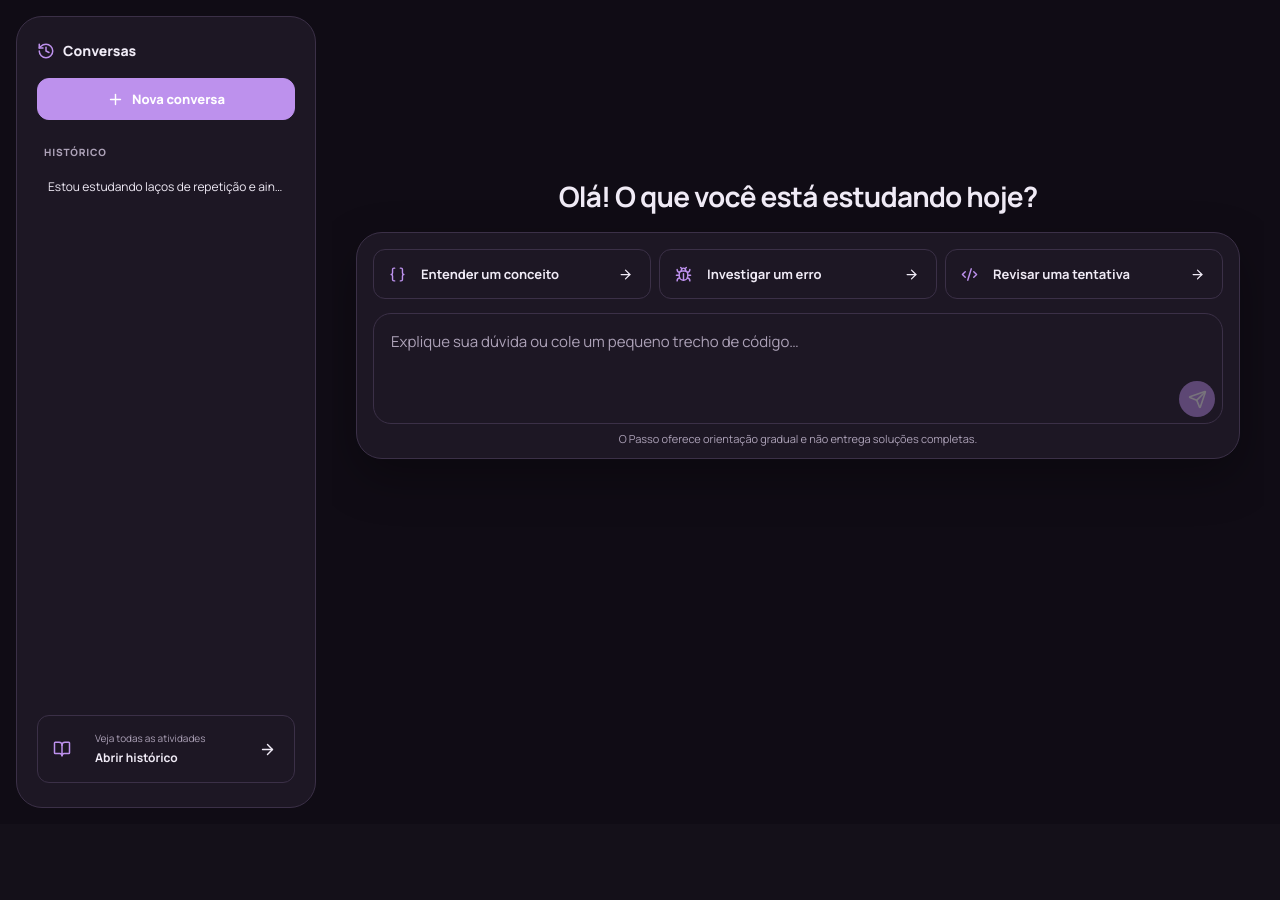
Scenario: ChatPage progressive layout › reopens an earlier conversation from the history
The image size is (1280, 900).
Click the button "Entender um conceito" at [512, 274], box [373,249,651,299]
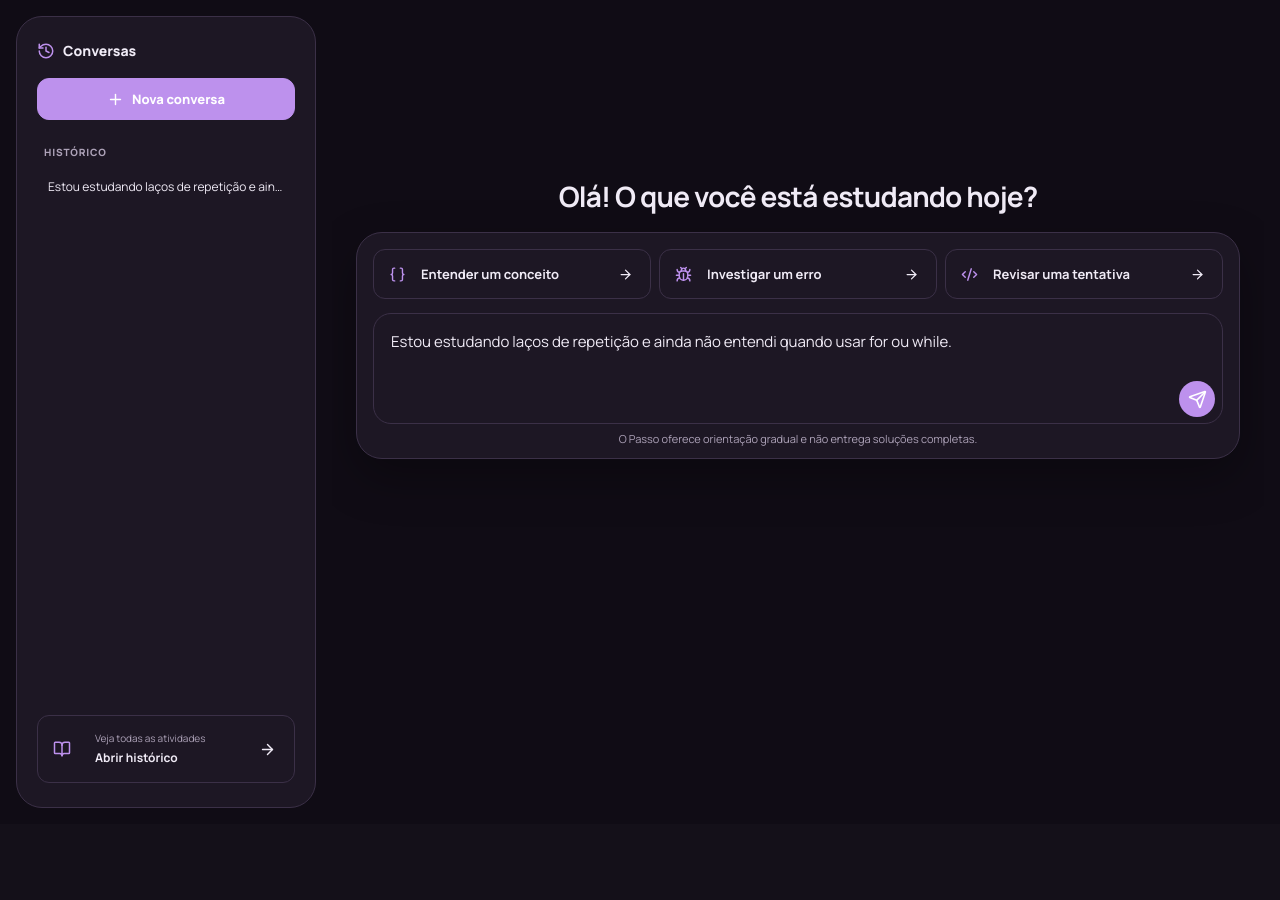
Click the button named "Enviar mensagem" at [1197, 399], box [1179,381,1215,417]
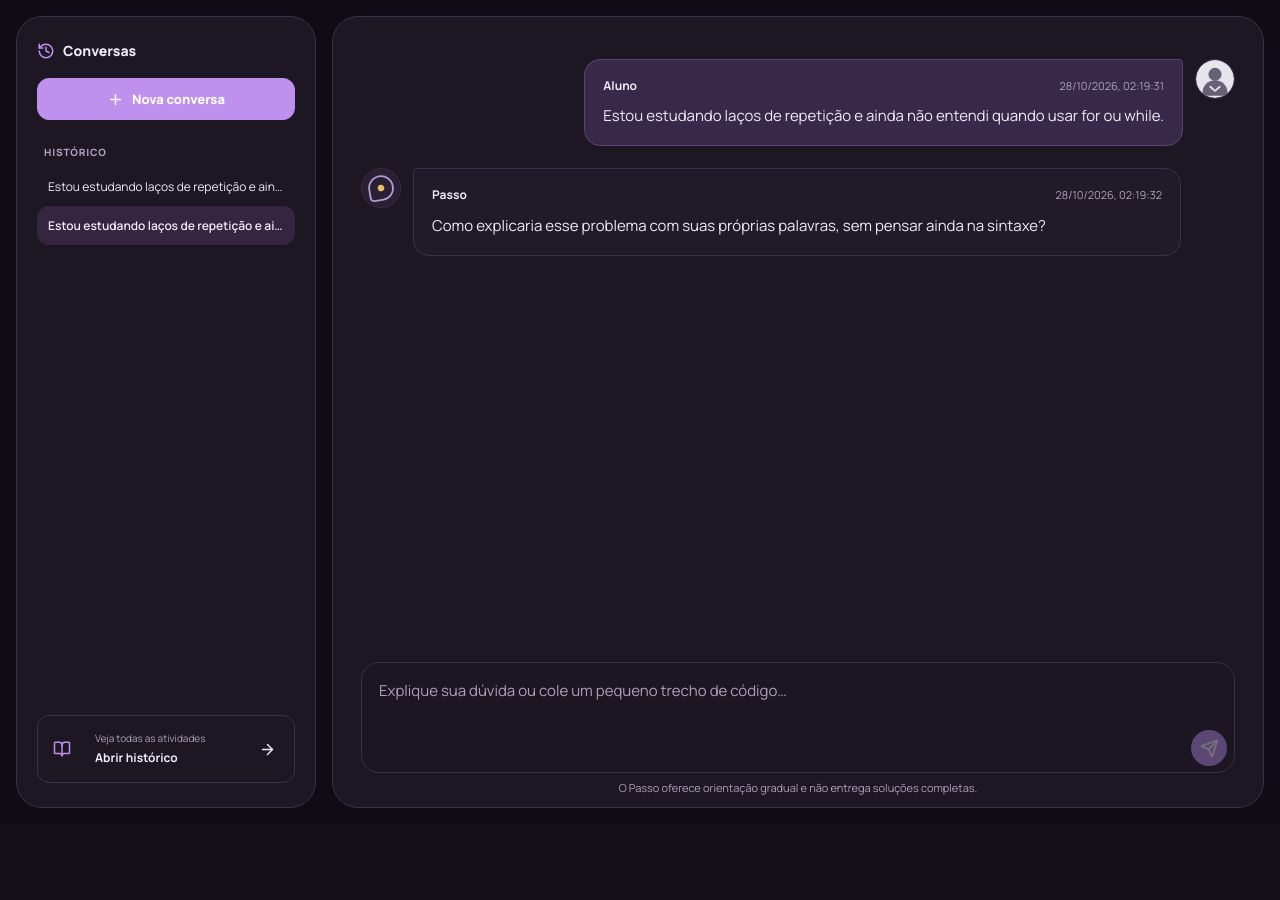
Check: the 1st button "Estou estudando laços de repetição" is shown, box [37,167,295,206]
Click the button "Nova conversa" at [166, 99], box [37,78,295,120]
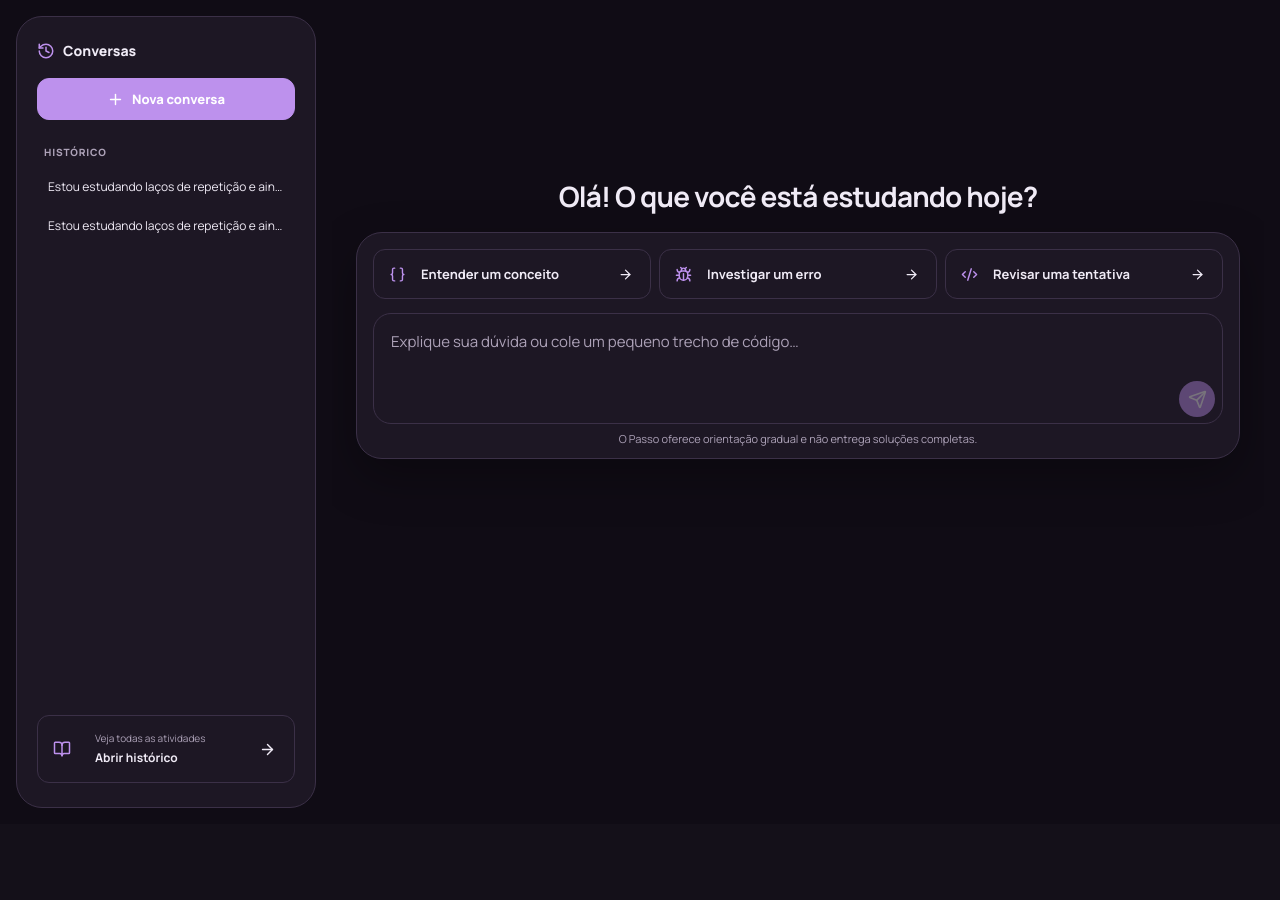
Check: the text box named "Sua mensagem para o tutor" is enabled, box [374,314,1222,372]
Click the 1st button "Estou estudando laços de repetição" at [166, 186], box [37,167,295,206]
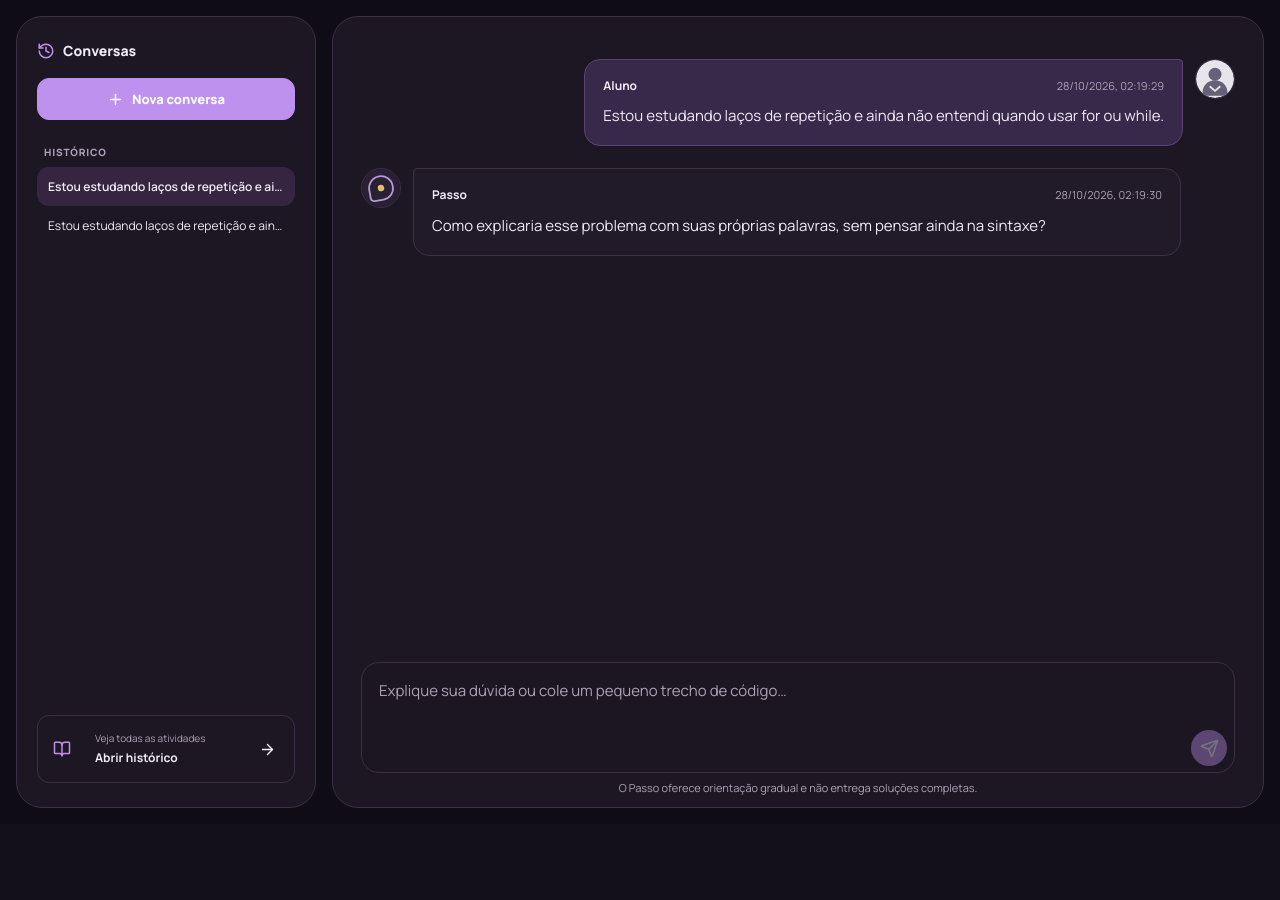
Check: the text "Estou estudando laços" below "Aluno" is shown, box [603,105,1164,126]
